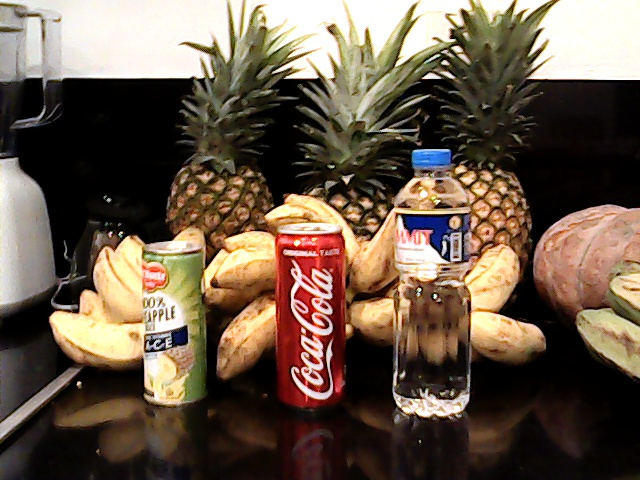Cola: (270, 217, 354, 410)
Pine Juice: (134, 241, 209, 409)
Summit Water: (387, 138, 474, 416)
